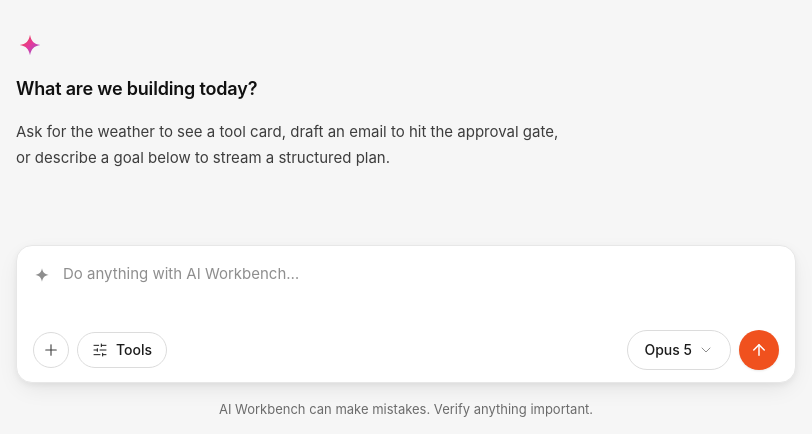
Test: weather tool rendering › shows a progress placeholder while the tool input streams
The image size is (812, 434).
Step 1. Type "Clima en Madrid?" into the text box → (421, 290), box [63,262,779,318]
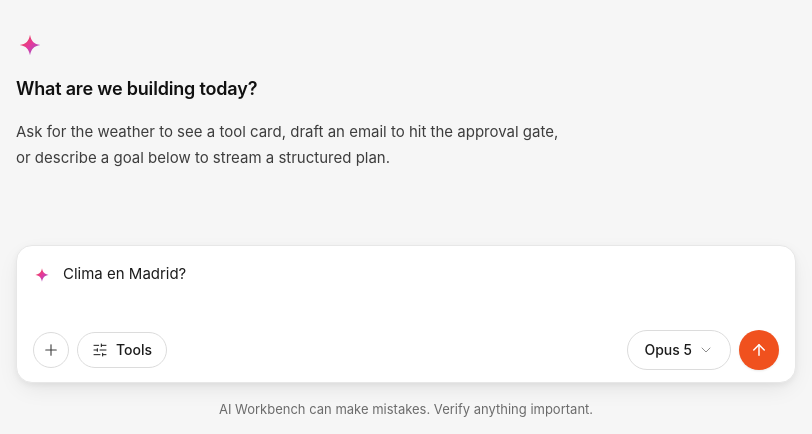
Step 2. Click the button named "send" → (759, 350), box [739,330,779,370]
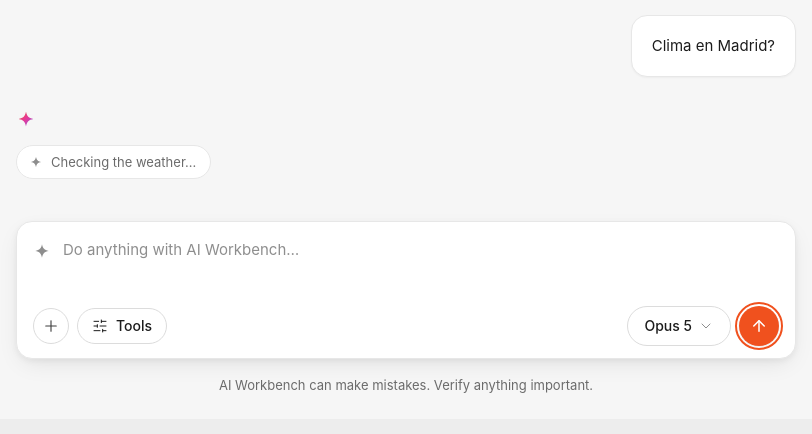
Expected: the text "Checking the weather…" is shown, [16,145,211,179]
